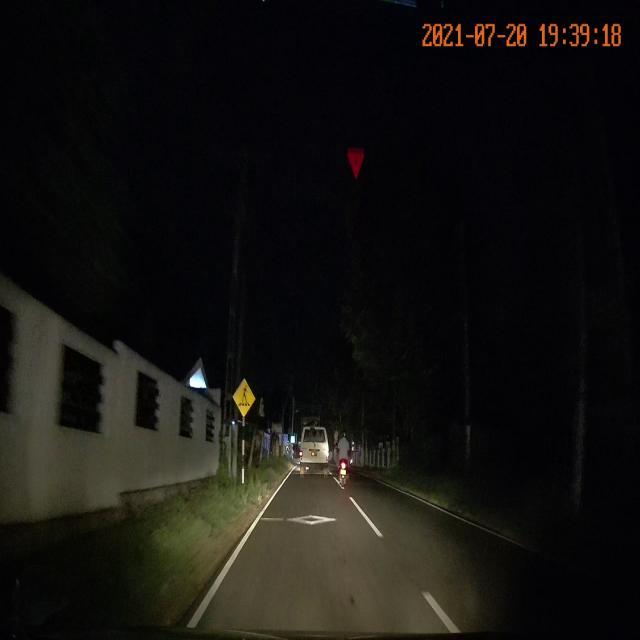diamond: (244, 510, 387, 540)
